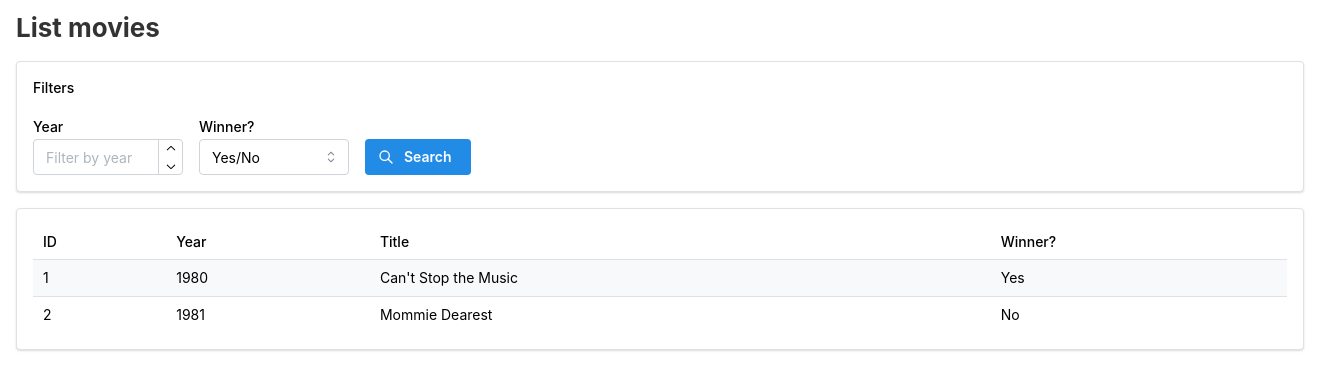
Test: MoviesList Component › Validação de filtros › deve aceitar apenas números no campo de ano
This screenshot has width=1321, height=368.
In the field with placeholder "Filter by year": (108, 157) [33,139,183,175], type "abc1980def"
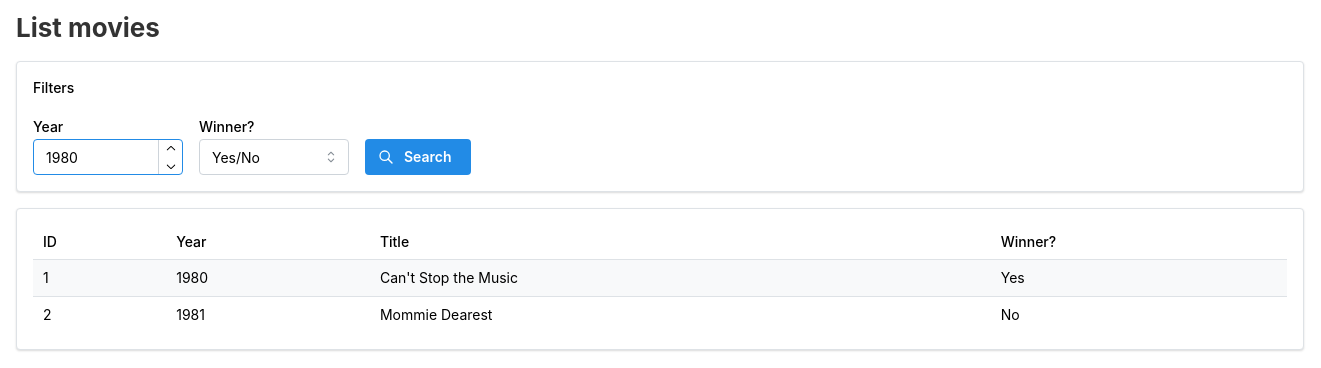
expect the field with placeholder "Filter by year" holds "1980": met, box [33,139,183,175]
